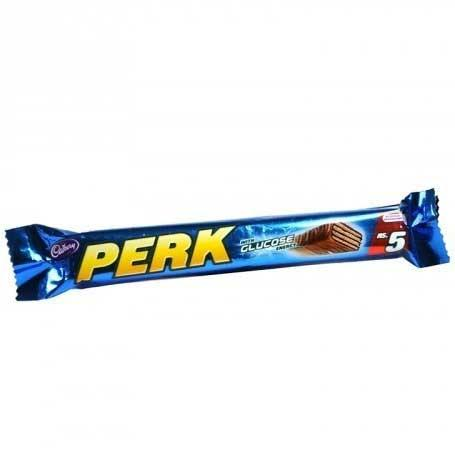Perk: (3, 187, 452, 300)
